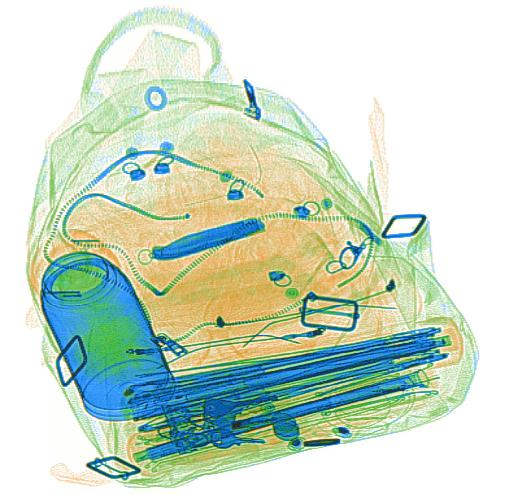knife: (147, 216, 267, 261)
